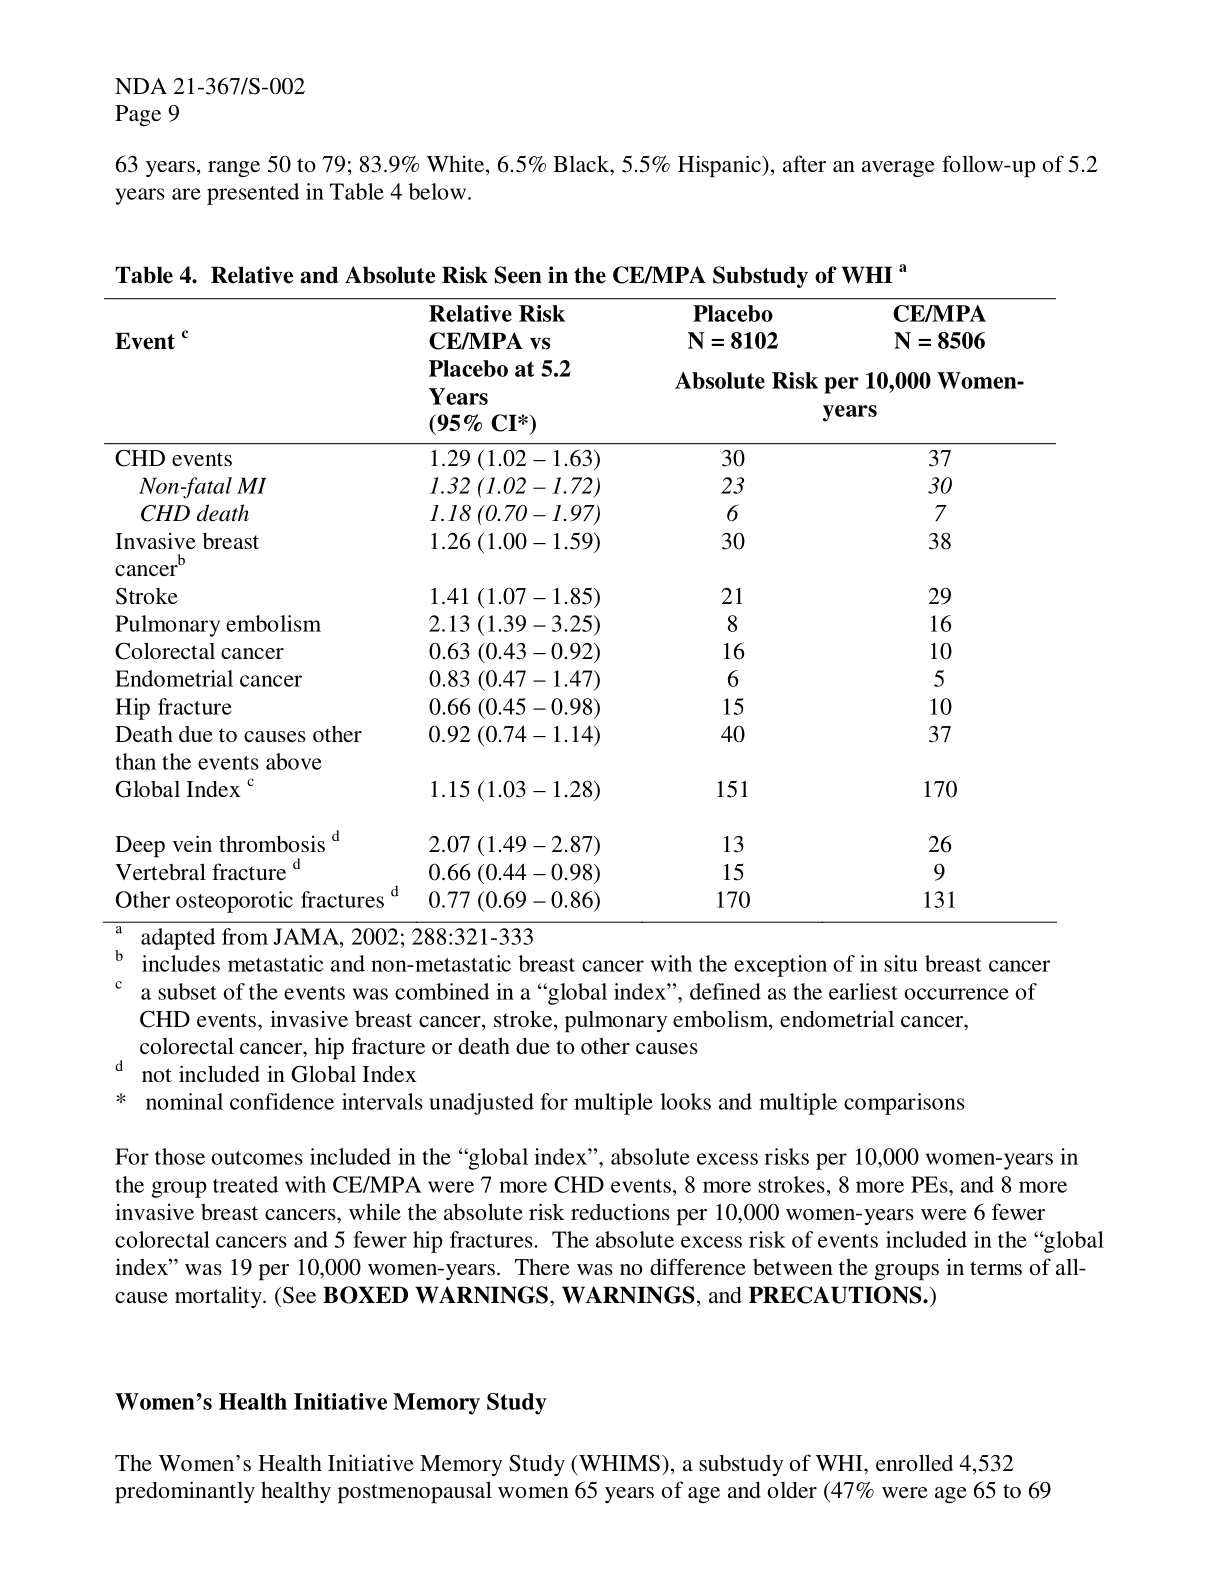partial_lined_merged_cells: (105, 294, 1059, 924)
